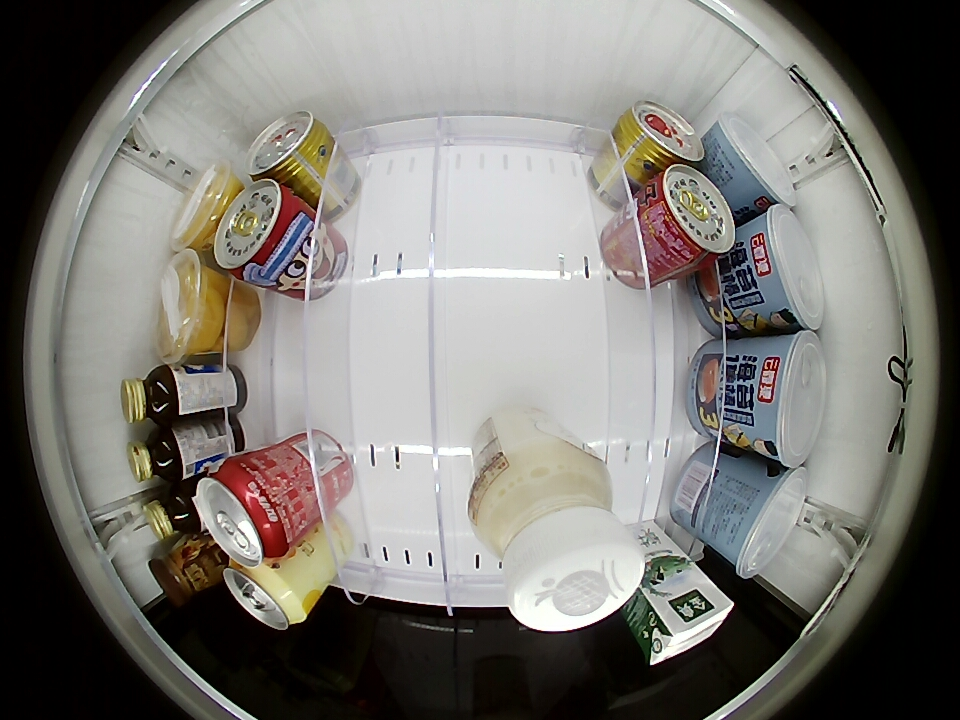haitai: (745, 331, 826, 468), (741, 205, 826, 334), (720, 463, 810, 581), (706, 113, 799, 212)
hongniu: (617, 100, 704, 171)
hongniu2: (245, 111, 332, 186)
jindian: (636, 572, 735, 667)
kele: (196, 460, 292, 568)
libaojian: (119, 363, 181, 426), (143, 482, 201, 542), (126, 428, 186, 484)
lujikafei: (147, 537, 219, 606)
mangguoxiaolao: (224, 560, 309, 630)
wangzainiunai: (634, 164, 737, 270), (215, 180, 312, 286)
weiweidounai: (471, 461, 646, 631)
xianguolao: (157, 251, 227, 361), (171, 162, 240, 252)
